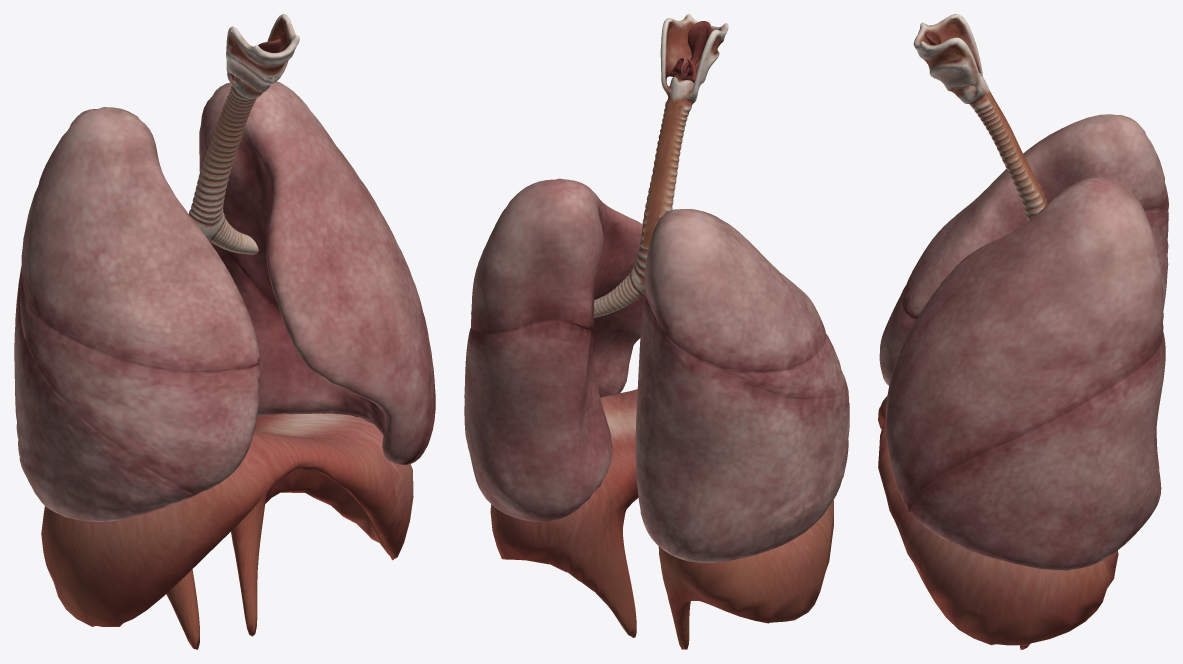
Rendered from - Respiratorio.FBX.
The picture shows the model from 3 angles, left to right: view 1: azimuth 30°, elevation 25°; view 2: azimuth 150°, elevation 25°; view 3: azimuth 270°, elevation 25°; orthographic projection. The views are drawn at different scales.
Visible parts, largest first — view 1: Respiratorio; view 2: Respiratorio; view 3: Respiratorio.
Boxes of the visible parts, x1=… form: Respiratorio: x1=14, y1=14, x2=435, y2=649; Respiratorio: x1=464, y1=14, x2=849, y2=649; Respiratorio: x1=878, y1=14, x2=1168, y2=649.
Bounding box in the file's own units: 27.56 × 46.39 × 20.01.
